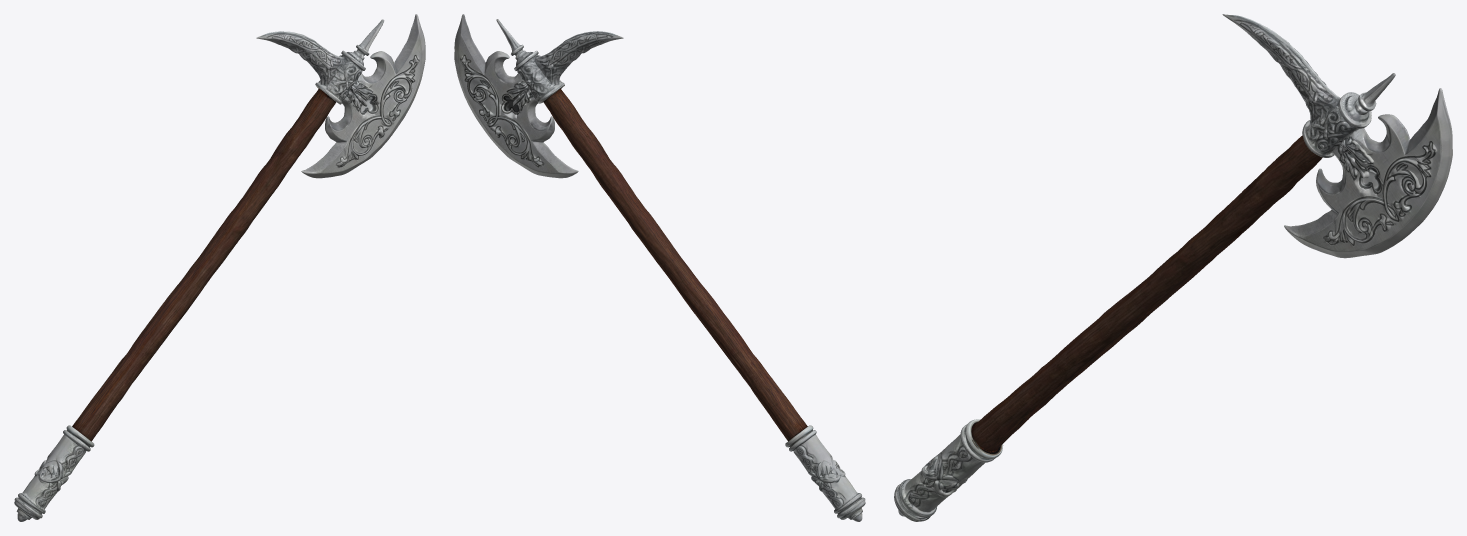
Rendered from battle-axe.glb.
The picture shows the model from 3 angles, left to right: view 1: azimuth 30°, elevation 25°; view 2: azimuth 150°, elevation 25°; view 3: azimuth 330°, elevation 25°; orthographic projection. The views are drawn at different scales.
Visible parts, largest first — view 1: tripo_node_8d9efd74-1b11-40e5-bf06-62a9db43094a; view 2: tripo_node_8d9efd74-1b11-40e5-bf06-62a9db43094a; view 3: tripo_node_8d9efd74-1b11-40e5-bf06-62a9db43094a.
Part boxes in pixels (<box>): tripo_node_8d9efd74-1b11-40e5-bf06-62a9db43094a: <box>14,14,425,521</box>; tripo_node_8d9efd74-1b11-40e5-bf06-62a9db43094a: <box>454,14,865,521</box>; tripo_node_8d9efd74-1b11-40e5-bf06-62a9db43094a: <box>894,14,1452,521</box>.
Size of the model in its own units: 0.9995 by 1 by 0.0735.
1 material, 1 textured.
